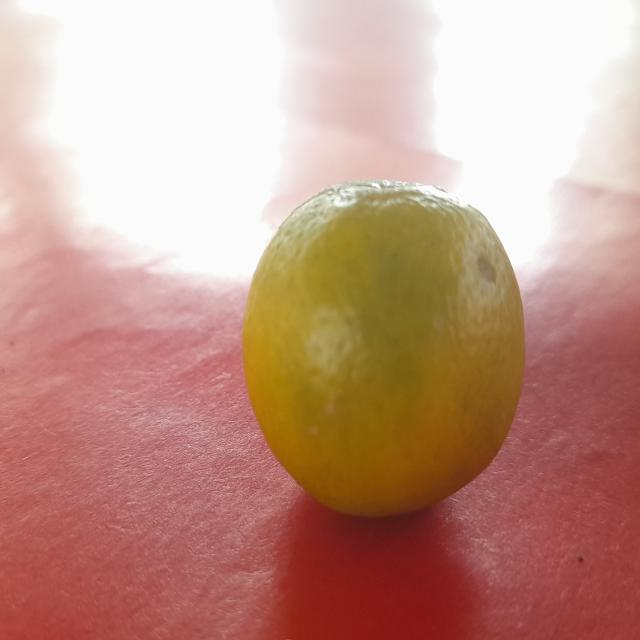greening: (243, 173, 557, 536)
